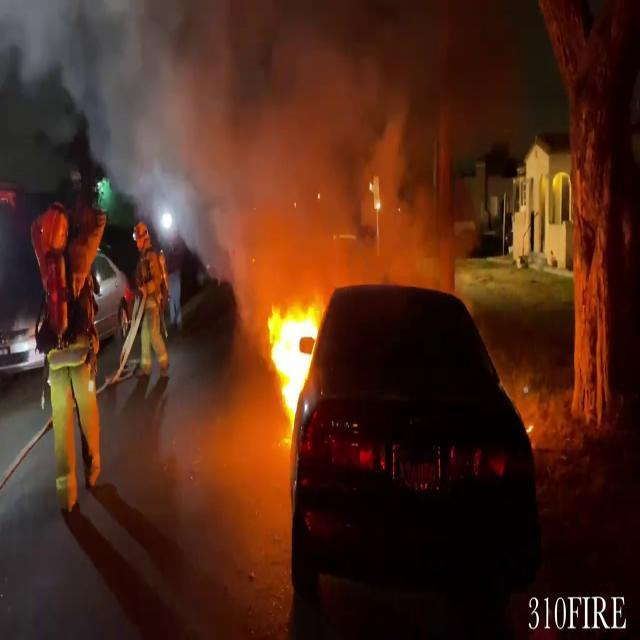Fire: (262, 296, 324, 428)
Smoke: (162, 1, 462, 300)
